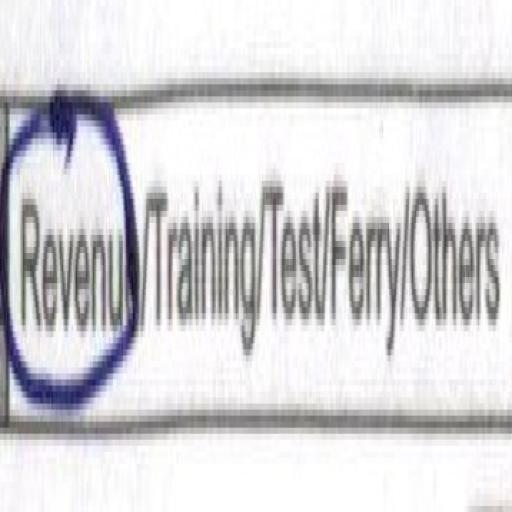check: (0, 0, 144, 482)
